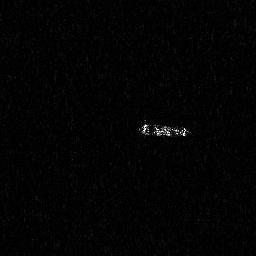ship: (136, 120, 191, 139)
